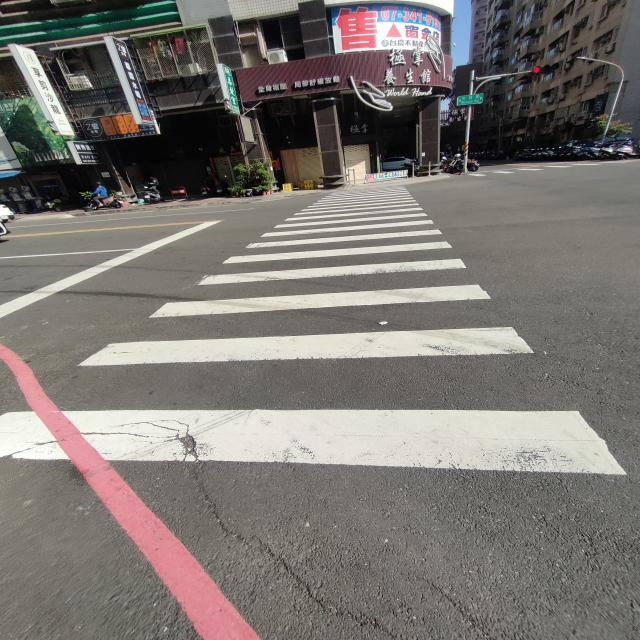zebra crossing: (0, 185, 631, 473), (469, 161, 635, 177)
